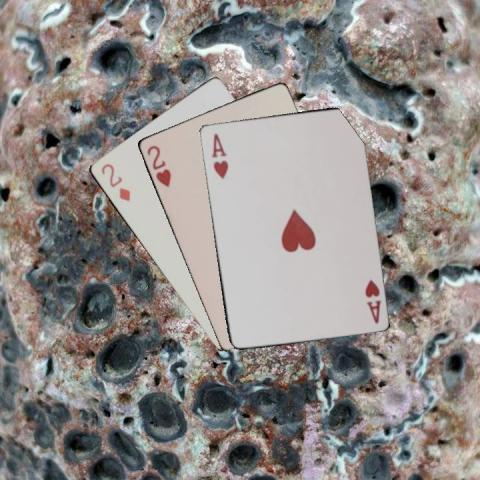2d: (98, 160, 132, 203)
2h: (143, 142, 172, 189)
Ah: (208, 130, 229, 180), (362, 276, 382, 325)
